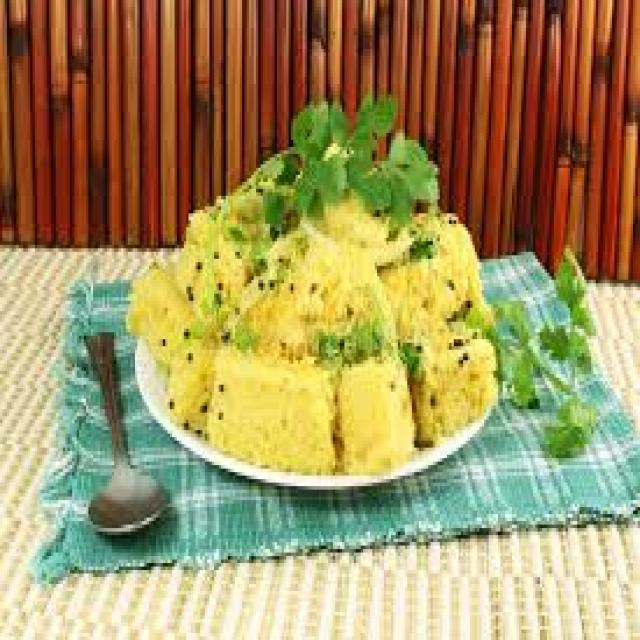DHOKLA: (126, 136, 498, 472)
